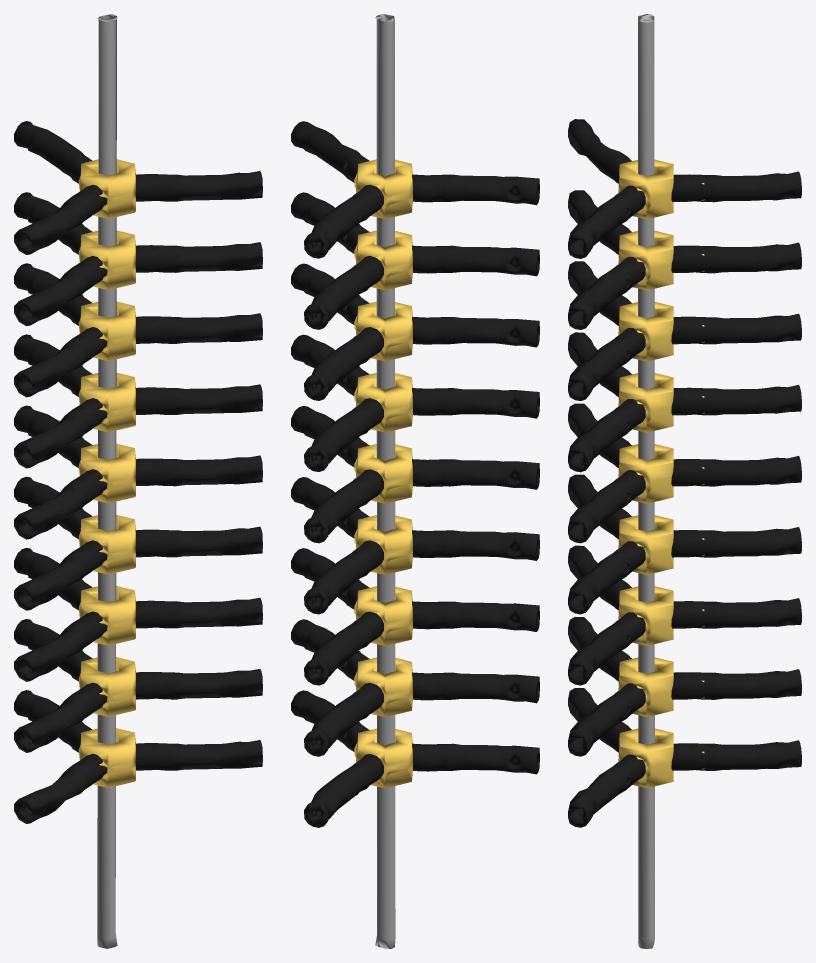
3 renders of one model, left to right at view 1: azimuth 30°, elevation 25°; view 2: azimuth 150°, elevation 25°; view 3: azimuth 270°, elevation 25°, orthographic.
Size of the model in its own units: 0.0971 by 0.352 by 0.0805.
